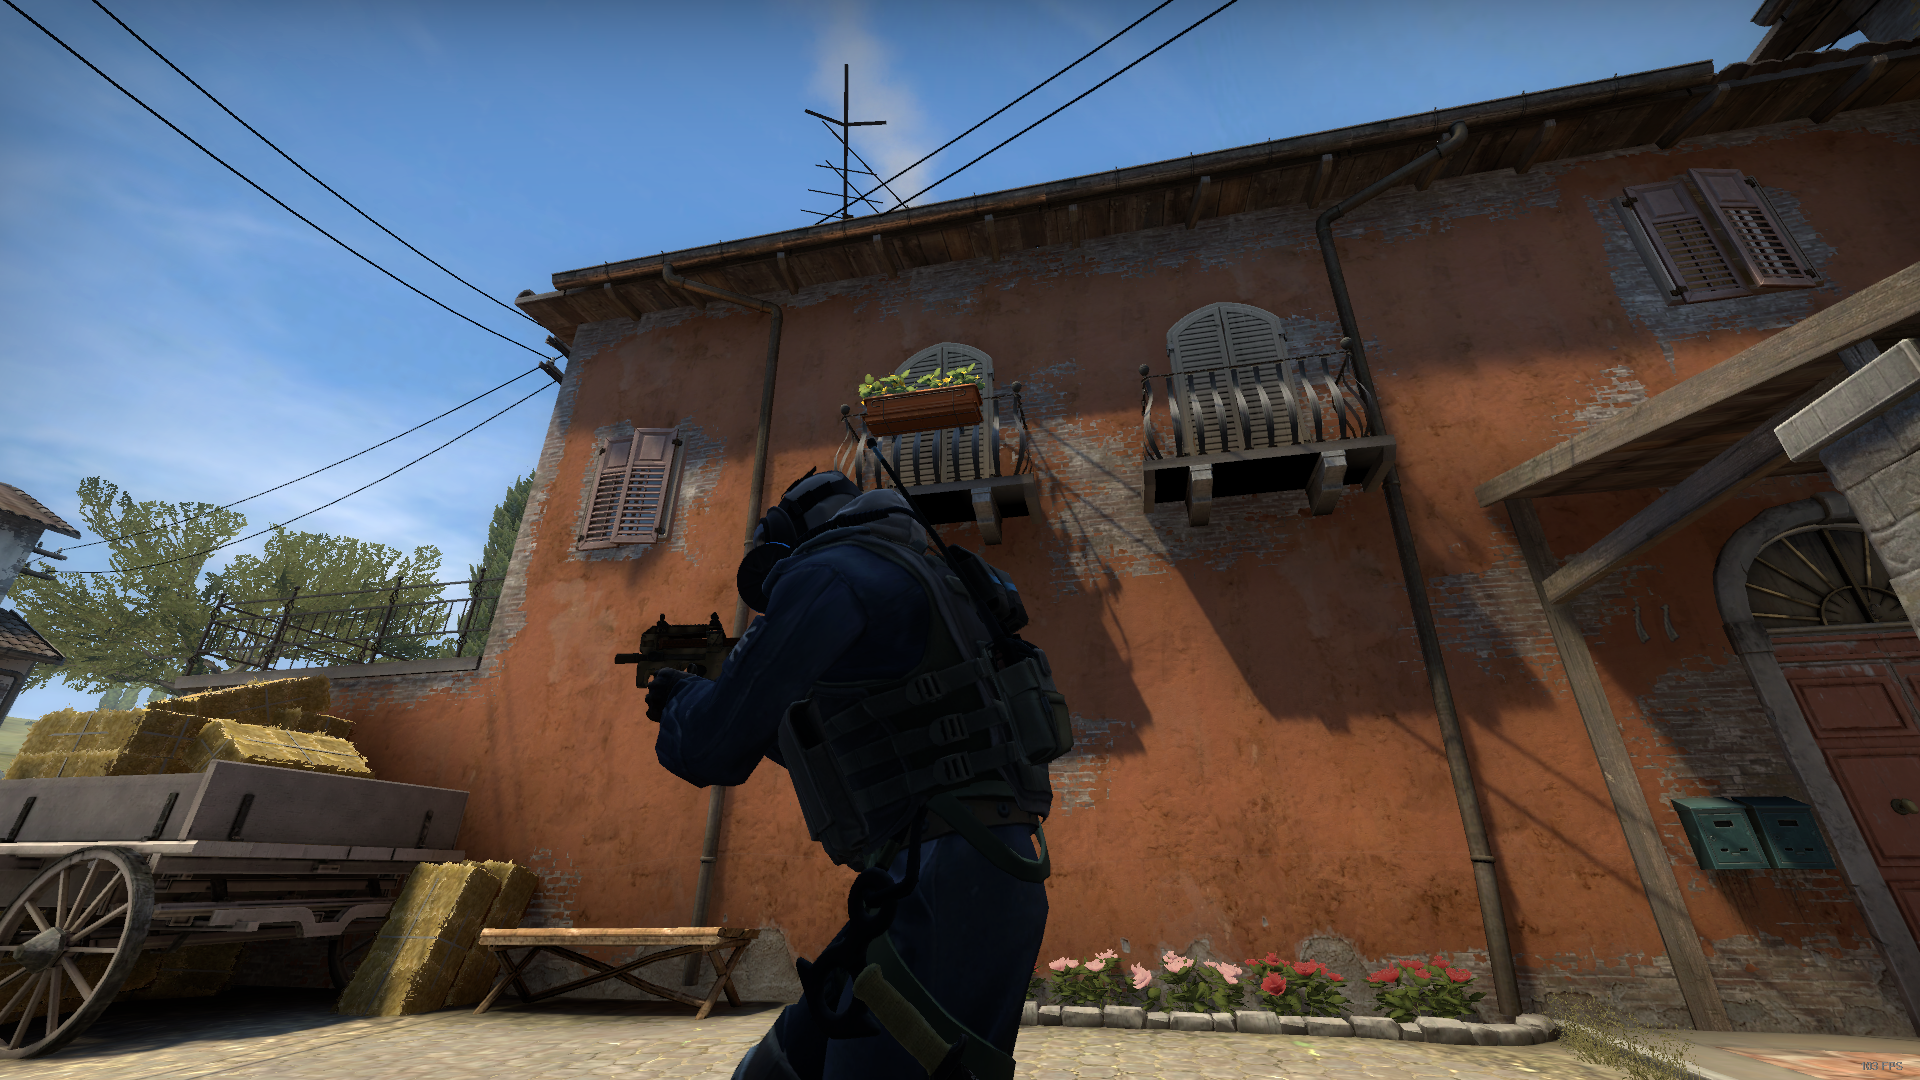ct: (646, 471, 1051, 1080)
